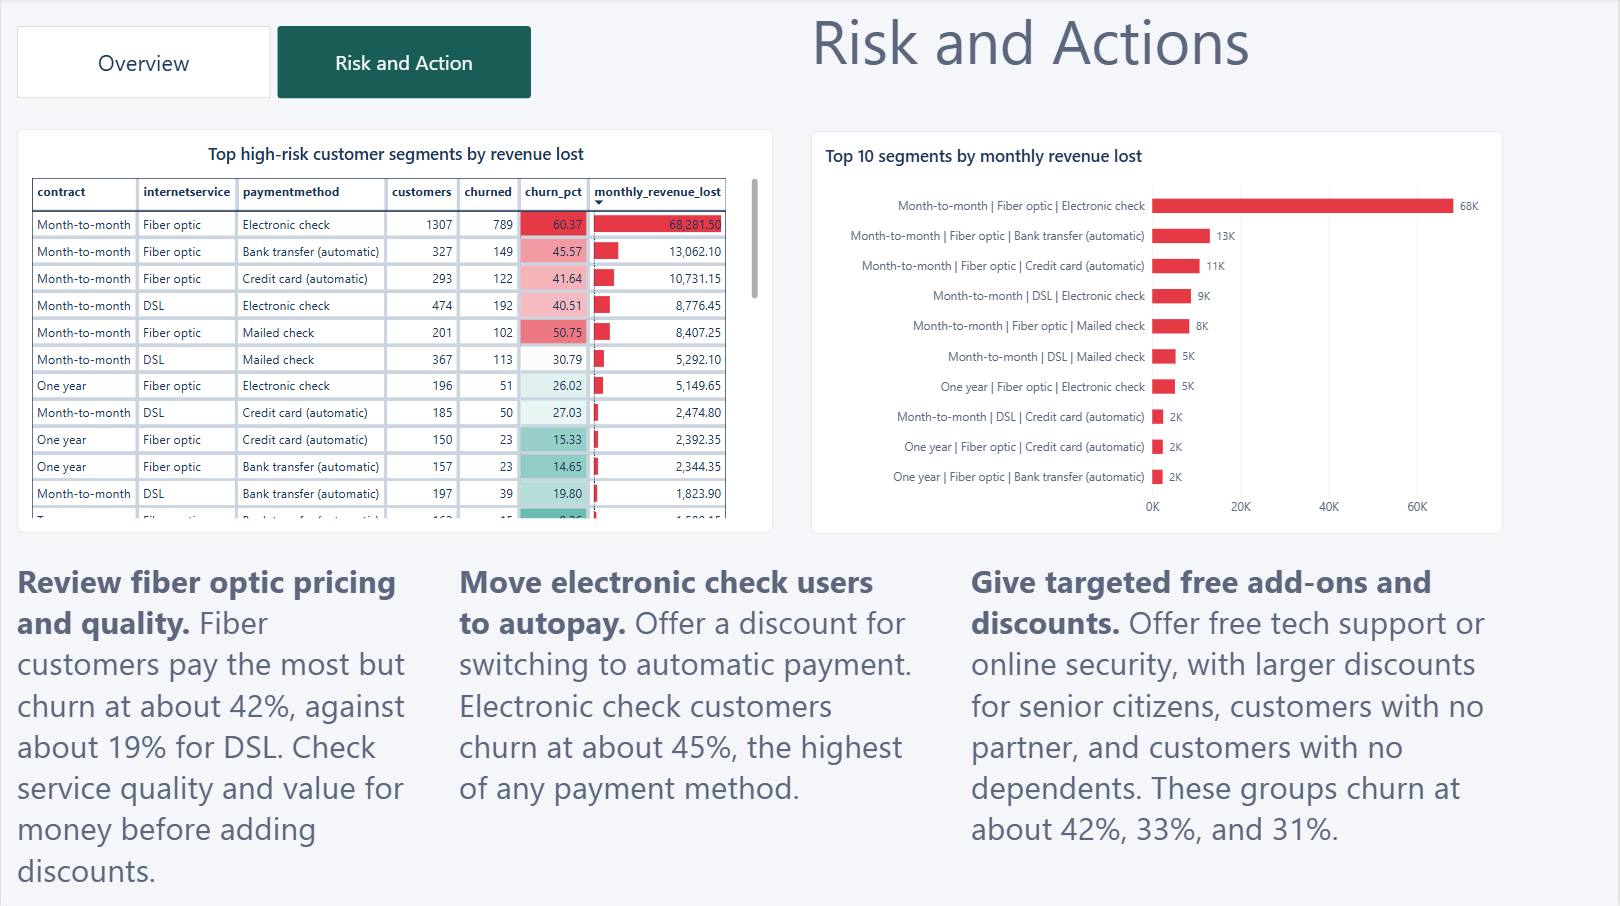

Layout of this report page (visuals, bound fields, positions):
{"tool":"powerbi","page":{"name":"Risk and Action","canvas":[1920,1080],"ordinal":1},"visuals":[{"type":"tableEx","title":"Top high-risk customer segments by revenue lost","fields":{"Values":["vw_churn_by_segment.contract","vw_churn_by_segment.internetservice","vw_churn_by_segment.paymentmethod","vw_churn_by_segment.customers","vw_churn_by_segment.churned","vw_churn_by_segment.churn_pct","vw_churn_by_segment.monthly_revenue_lost"]},"box":[19.5,155.9,897.4,478.9],"z":3},{"type":"clusteredBarChart","title":"Top 10 segments by monthly revenue lost","fields":{"Category":["vw_churn_by_segment.Segment"],"Y":["Sum(vw_churn_by_segment.monthly_revenue_lost)"]},"box":[960.7,157.4,821.4,478.1],"z":4},{"type":"textbox","box":[19.5,686.5,467.6,394.2],"z":5},{"type":"textbox","box":[544.1,686.5,538.1,394.2],"z":6},{"type":"textbox","box":[1151.1,686.5,650.5,376.2],"z":7},{"type":"pageNavigator","box":[19.5,33,611.5,86.9],"z":8},{"type":"textbox","box":[960.7,0,569.6,149.9],"z":9},{"type":"textbox","box":[37.5,635.5,879.8,51],"z":10}]}

Visuals, with their boxes in screenshot pixels (x1, y1, x2, y2), scaled from the page's 1920x1080 canvas onto the 1620x906 screenshot:
"Top high-risk customer segments by revenue lost" tableEx: [x1=16, y1=131, x2=774, y2=533]
"Top 10 segments by monthly revenue lost" clusteredBarChart: [x1=811, y1=132, x2=1504, y2=533]
textbox: [x1=16, y1=576, x2=411, y2=905]
textbox: [x1=459, y1=576, x2=913, y2=905]
textbox: [x1=971, y1=576, x2=1520, y2=891]
pageNavigator: [x1=16, y1=28, x2=532, y2=101]
textbox: [x1=811, y1=0, x2=1291, y2=126]
textbox: [x1=32, y1=533, x2=774, y2=576]
